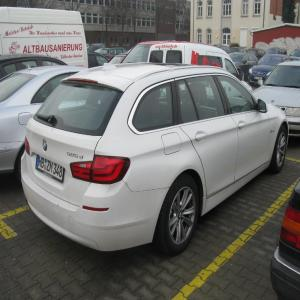Vehicle-registration-plate: (36, 155, 63, 185)
